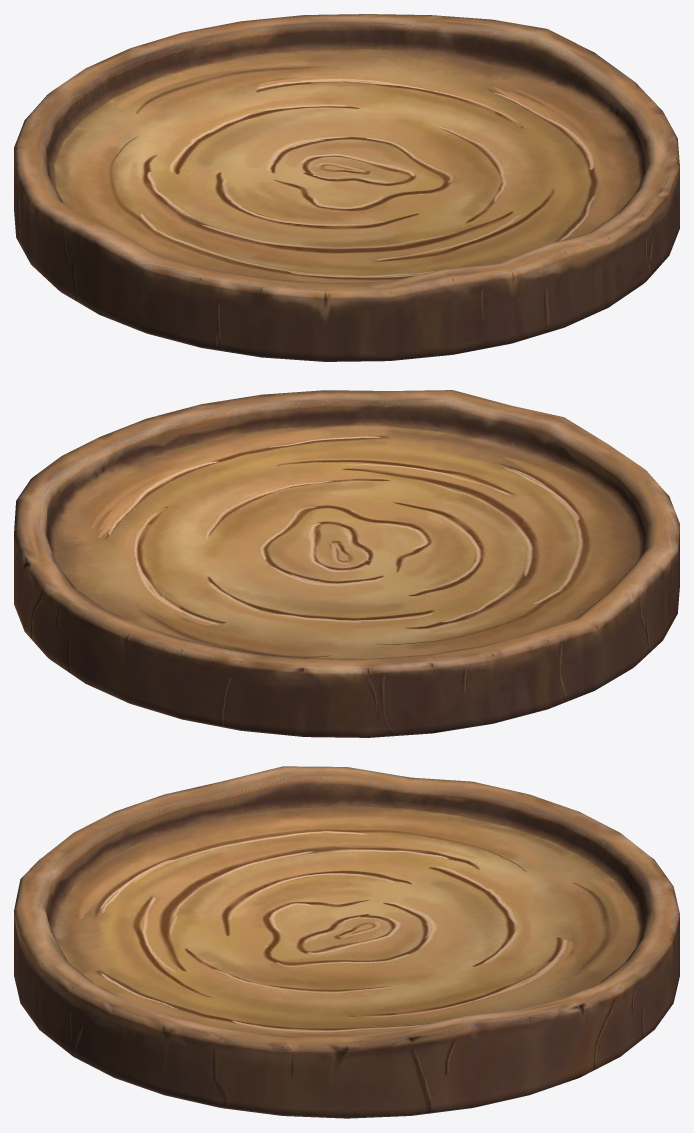
File: tray.glb
3 views of the same model, one above another, from view 1: azimuth 30°, elevation 25°; view 2: azimuth 150°, elevation 25°; view 3: azimuth 270°, elevation 25° (orthographic).
Parts seen in each view (by area): view 1: Cylinder_bol_0; view 2: Cylinder_bol_0; view 3: Cylinder_bol_0.
Boxes of the visible parts, x1,y1,x2,y2 form: Cylinder_bol_0: (14, 14, 679, 361); Cylinder_bol_0: (14, 390, 679, 737); Cylinder_bol_0: (14, 766, 679, 1118).
Size of the model in its own units: 2 by 0.2763 by 2.
1 material, 1 textured.
